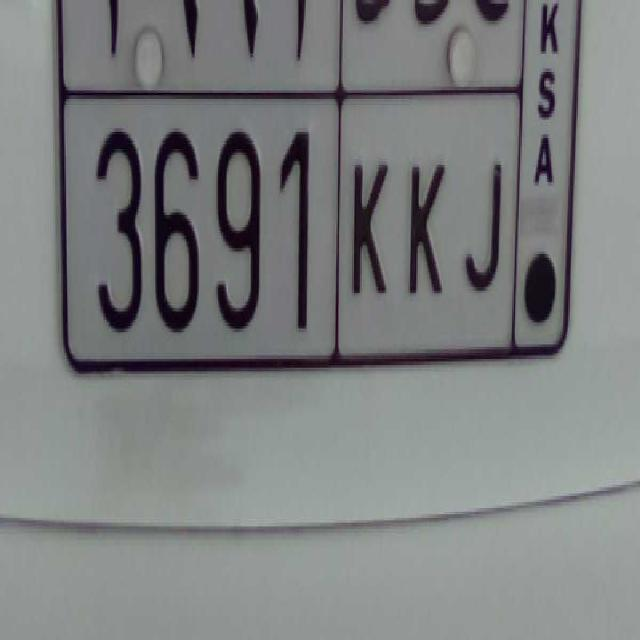license_plate: (72, 96, 513, 366)
